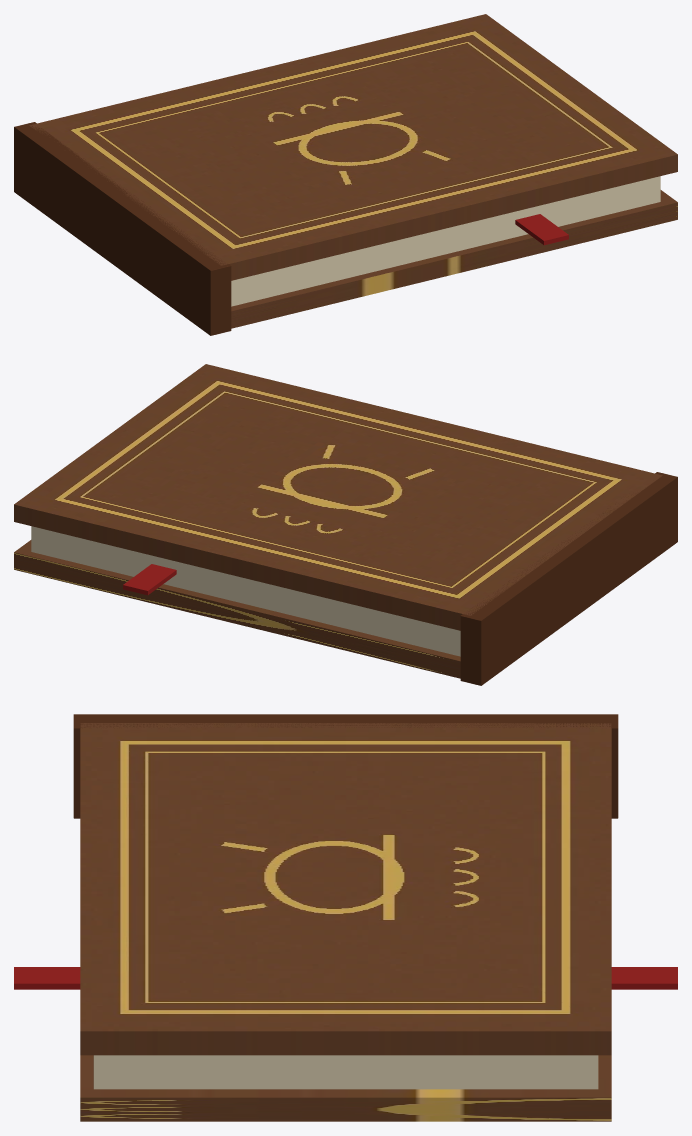
File: rezeptheft.glb
The picture shows the model from 3 angles, top to bottom: view 1: azimuth 30°, elevation 25°; view 2: azimuth 150°, elevation 25°; view 3: azimuth 270°, elevation 25°; orthographic projection. The views are drawn at different scales.
Visible parts, largest first — view 1: Cube; view 2: Cube; view 3: Cube.
Part boxes in pixels (x1=…): Cube: x1=14, y1=14, x2=677, y2=335; Cube: x1=14, y1=364, x2=677, y2=685; Cube: x1=14, y1=714, x2=677, y2=1121.
Bounding box in the file's own units: 0.226 × 0.03 × 0.2.
4 materials, 1 textured.
